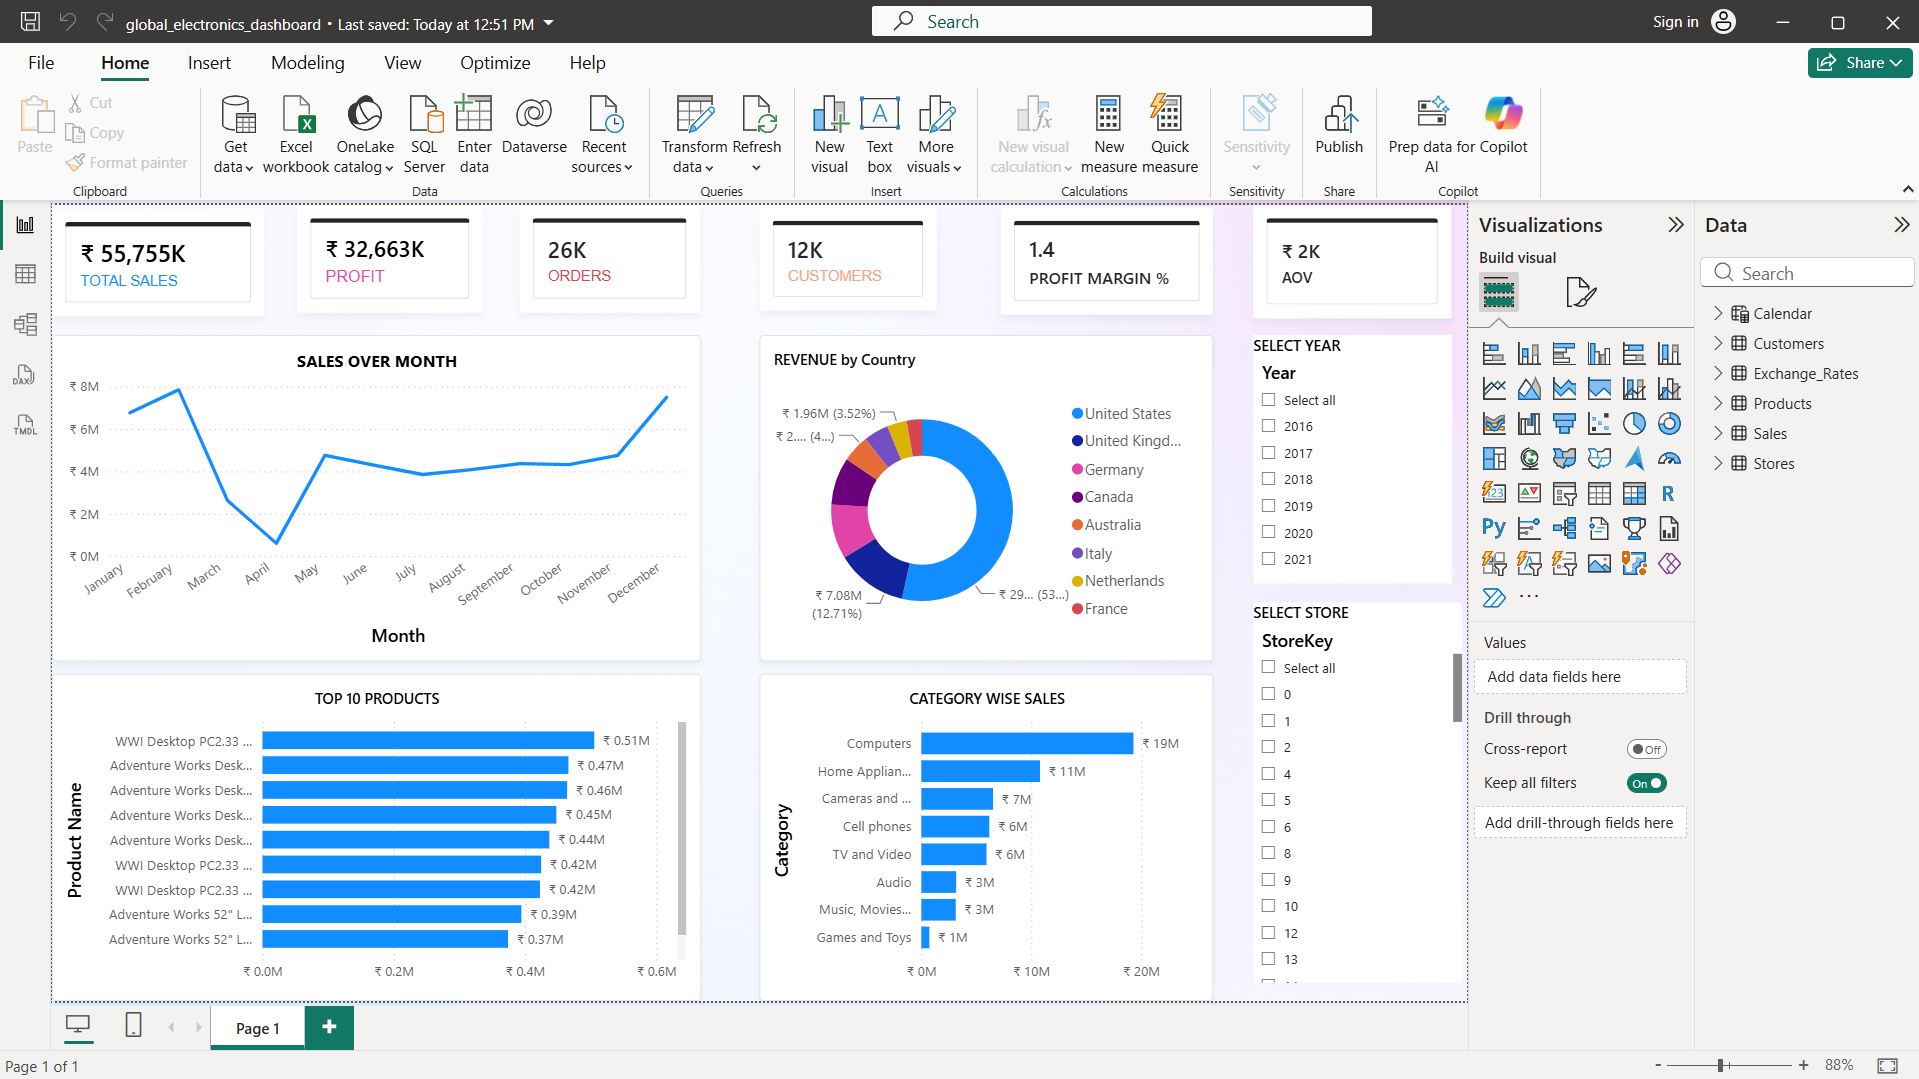

What the dashboard file says about the page in this screenshot:
{"tool":"powerbi","page":{"name":"Page 1","canvas":[1280,720],"ordinal":0},"visuals":[{"type":"cardVisual","fields":{"Data":["Sales.TOTAL SALES"]},"box":[0,3.4,192.2,97.2],"z":0},{"type":"cardVisual","fields":{"Data":["Sales.PROFIT"]},"box":[221.6,0,168.5,97.2],"z":1000},{"type":"cardVisual","fields":{"Data":["Sales.ORDERS"]},"box":[422.9,0,163.9,97.2],"z":2000},{"type":"cardVisual","fields":{"Data":["Sales.CUSTOMERS"]},"box":[640,2.3,160.6,93.8],"z":3000},{"type":"lineChart","title":"SALES OVER MONTH","fields":{"Y":["Sales.TOTAL SALES"],"Category":["Calendar.Month"]},"box":[0,117.6,586.8,295.1],"z":4000},{"type":"cardVisual","fields":{"Data":["Sales.PROFIT MARGIN"]},"box":[858.2,2.3,192.2,97.2],"z":5000},{"type":"clusteredBarChart","title":"CATEGORY WISE SALES","fields":{"Y":["Sales.TOTAL SALES"],"Category":["Products.Category"]},"box":[640,424,410.4,296.2],"z":6000},{"type":"clusteredBarChart","title":"TOP 10 PRODUCTS","fields":{"Category":["Products.Product Name"],"Y":["Sales.TOTAL SALES"]},"box":[0,424,586.8,296.2],"z":7000},{"type":"slicer","title":"SELECT YEAR","fields":{"Values":["Calendar.Year"]},"box":[1086.6,117.6,179.8,225],"z":8000},{"type":"slicer","title":"SELECT STORE","fields":{"Values":["Sales.StoreKey"]},"box":[1086.6,359.5,188.8,343.7],"z":9000},{"type":"cardVisual","fields":{"Data":["Sales.AOV"]},"box":[1086.6,0,179.8,102.9],"z":10000},{"type":"donutChart","fields":{"Y":["Sales.REVENUE"],"Category":["Customers.Country"]},"box":[640,117.6,410.4,295.1],"z":11000}]}

Visuals, with their boxes on the page's 1280x720 design canvas (x1, y1, x2, y2). These are canvas units, not pixel positions in the 1919x1079 screenshot, which may show the page scaled, cropped or inside an application window:
cardVisual - Sales.TOTAL SALES: bbox=(0, 3, 192, 101)
cardVisual - Sales.PROFIT: bbox=(222, 0, 390, 97)
cardVisual - Sales.ORDERS: bbox=(423, 0, 587, 97)
cardVisual - Sales.CUSTOMERS: bbox=(640, 2, 801, 96)
"SALES OVER MONTH" lineChart: bbox=(0, 118, 587, 413)
cardVisual - Sales.PROFIT MARGIN: bbox=(858, 2, 1050, 100)
"CATEGORY WISE SALES" clusteredBarChart: bbox=(640, 424, 1050, 720)
"TOP 10 PRODUCTS" clusteredBarChart: bbox=(0, 424, 587, 720)
"SELECT YEAR" slicer: bbox=(1087, 118, 1266, 343)
"SELECT STORE" slicer: bbox=(1087, 360, 1275, 703)
cardVisual - Sales.AOV: bbox=(1087, 0, 1266, 103)
donutChart - Sales.REVENUE x Customers.Country: bbox=(640, 118, 1050, 413)
